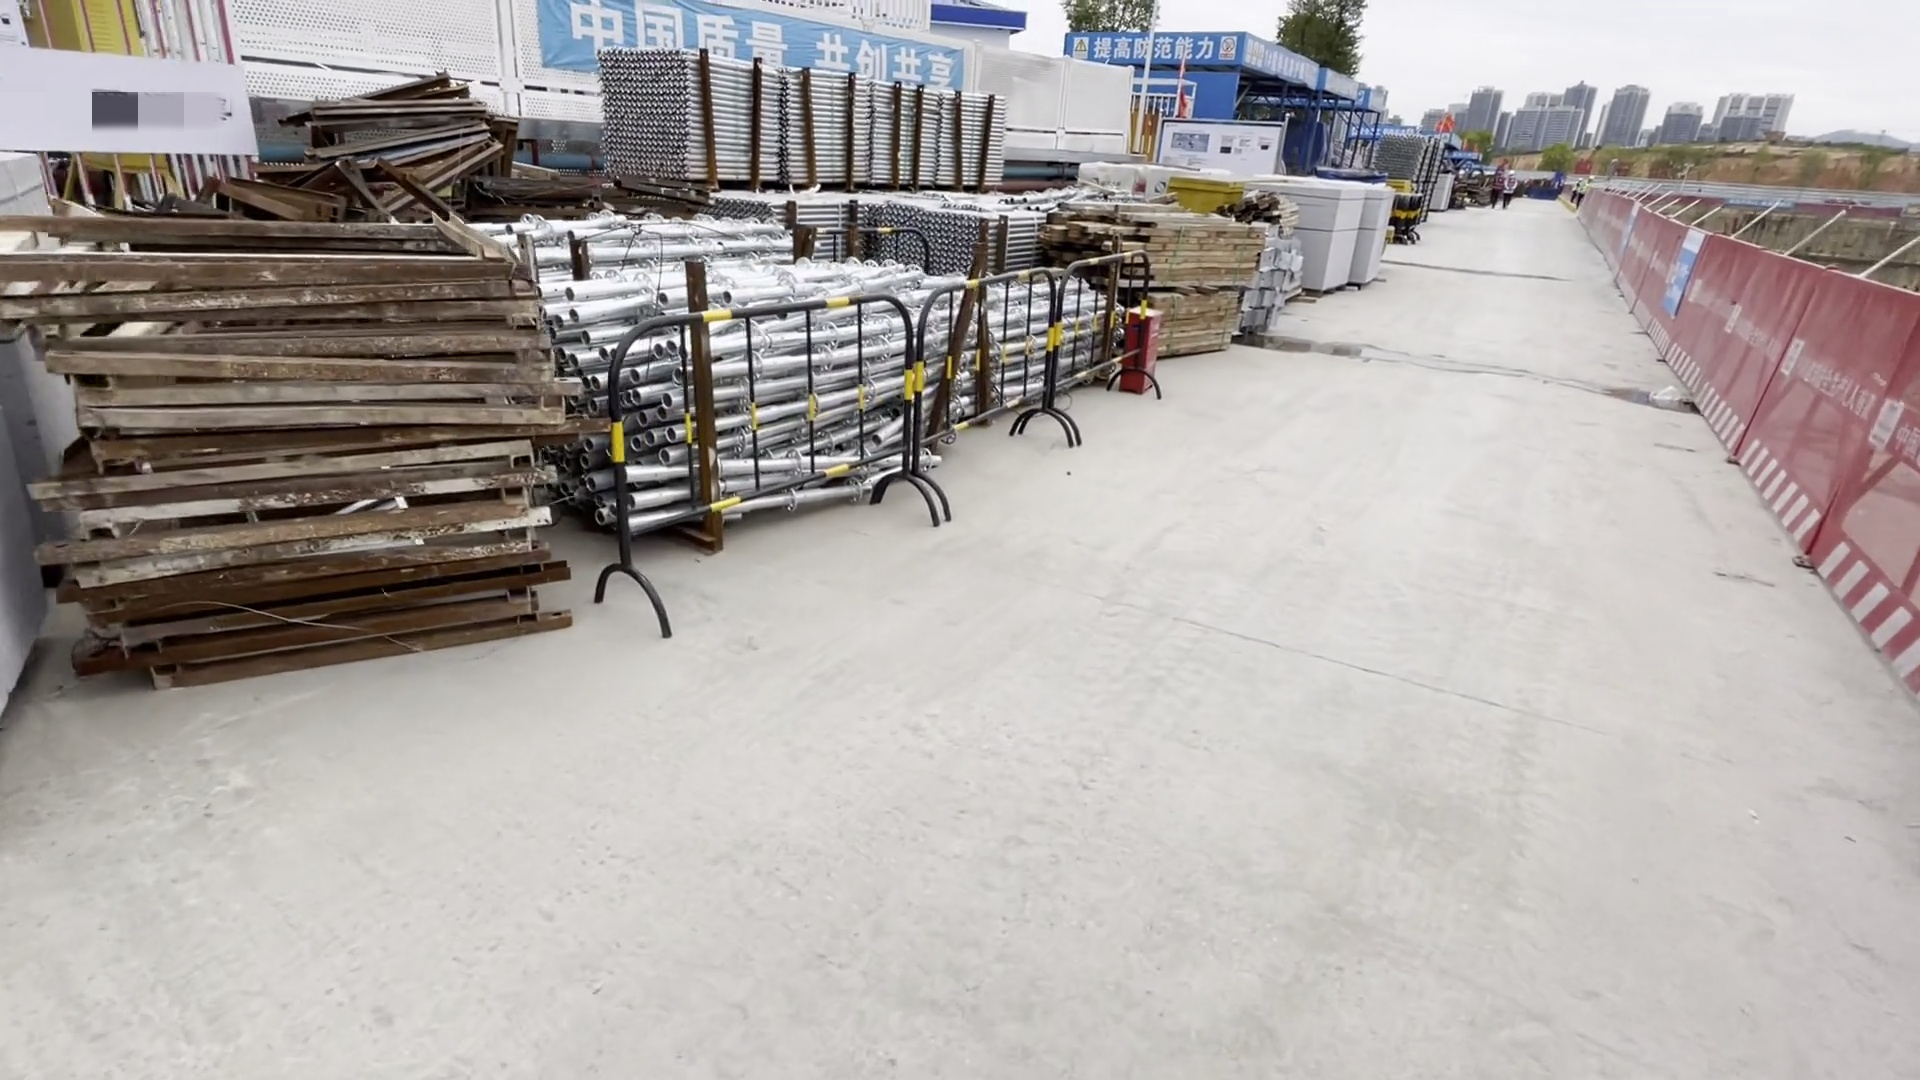brick: (1261, 183, 1396, 291), (1424, 169, 1457, 219)
fence: (1592, 185, 1920, 684)
scaffold: (588, 45, 1011, 196), (556, 233, 874, 371), (733, 190, 1042, 289)
slogan: (560, 1, 968, 102), (1068, 33, 1241, 65)
wood: (1067, 207, 1244, 352)
